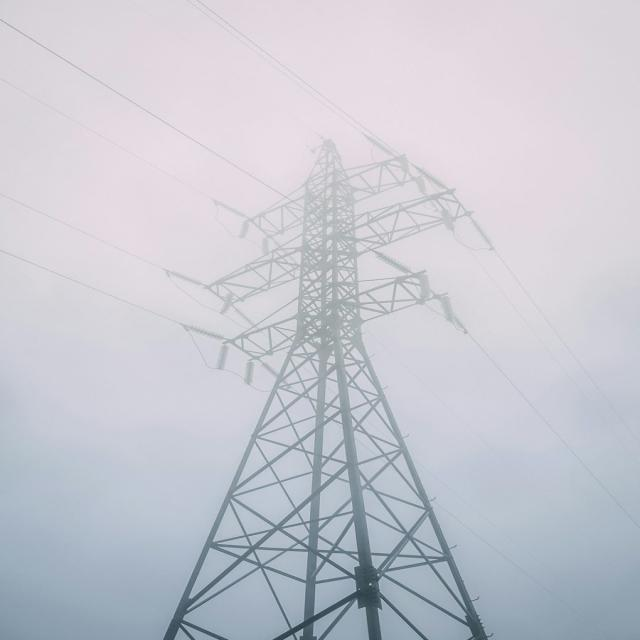transmission tower: (193, 132, 598, 640)
